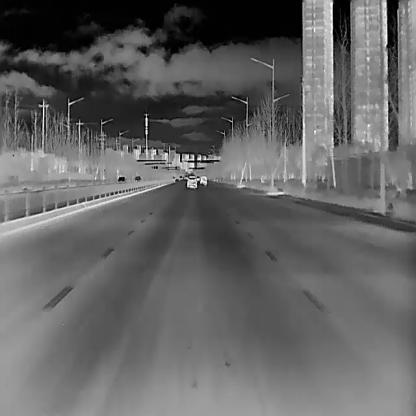car: (186, 174, 196, 188), (199, 174, 206, 184), (116, 175, 126, 182), (134, 175, 140, 180)
